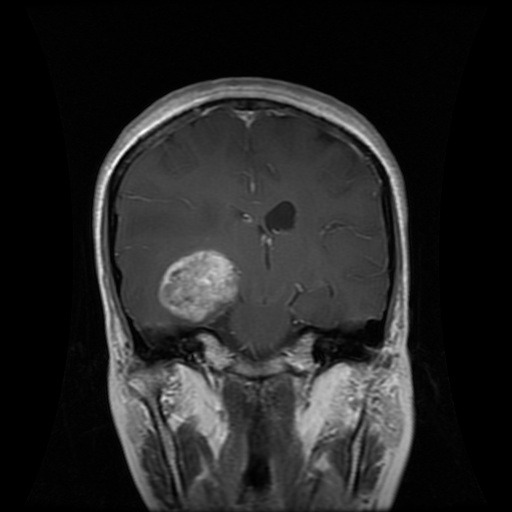glioma: (154, 245, 246, 325)
